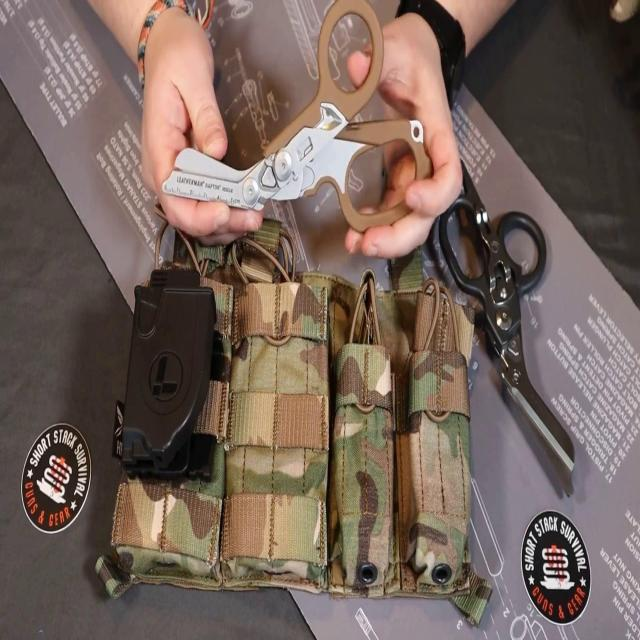scissor: (161, 0, 435, 235), (438, 155, 576, 499)
